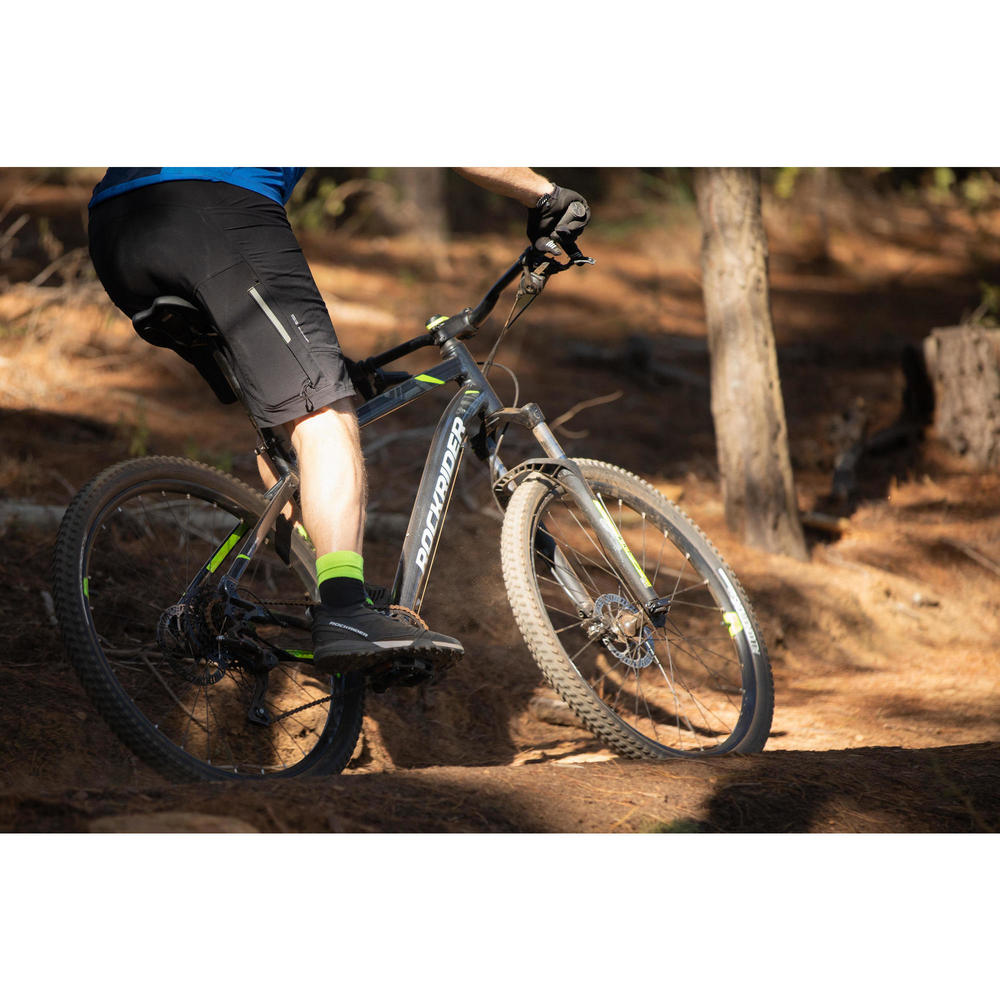MountainBike: (56, 211, 765, 777)
